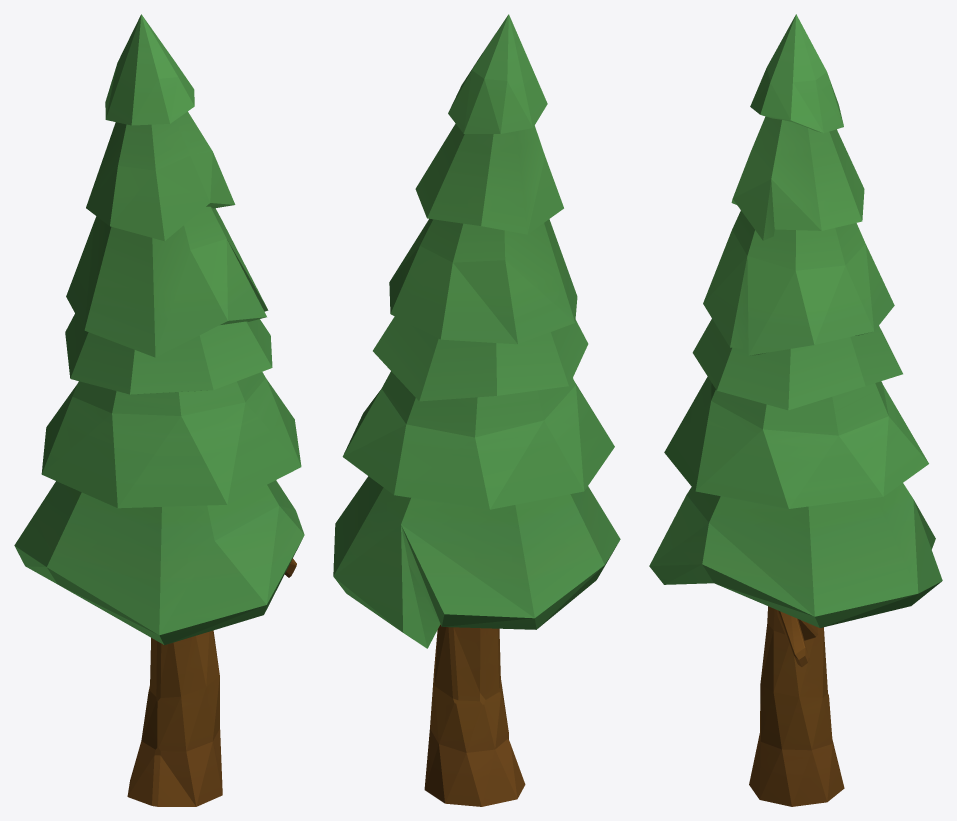
The model's file is tree_fir_slim.glb.
3 views of the same model, side by side, from view 1: azimuth 30°, elevation 25°; view 2: azimuth 150°, elevation 25°; view 3: azimuth 270°, elevation 25° (orthographic). The views are drawn at different scales.
Visible parts, largest first — view 1: Tree_7_AA; view 2: Tree_7_AA; view 3: Tree_7_AA.
Part boxes in pixels (x1=…): Tree_7_AA: x1=14, y1=14, x2=304, y2=806; Tree_7_AA: x1=333, y1=14, x2=620, y2=806; Tree_7_AA: x1=649, y1=14, x2=942, y2=806.
Size of the model in its own units: 1.3 by 3.75 by 1.32.
1 material, 1 textured.
